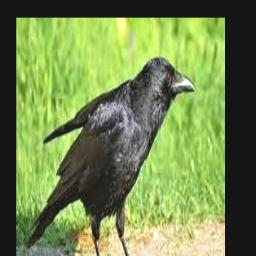Crow: (27, 56, 198, 256)
